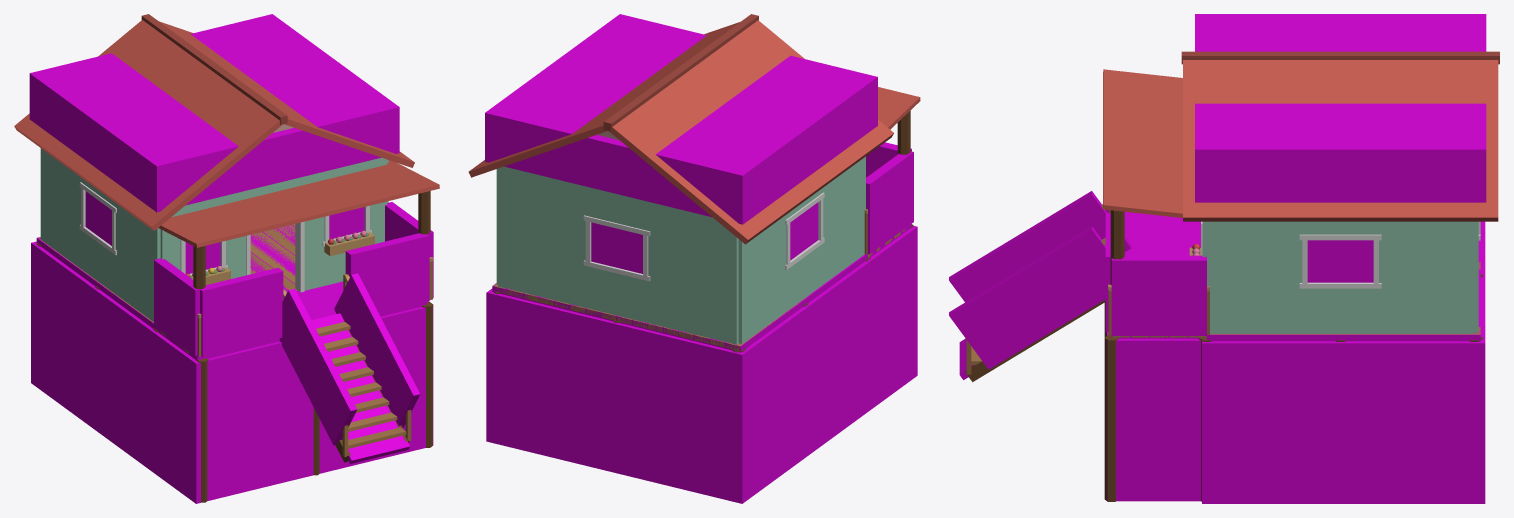
The model's file is stilt_house_d-CxlcBI84.glb.
3 views of the same model, side by side, from view 1: azimuth 30°, elevation 25°; view 2: azimuth 150°, elevation 25°; view 3: azimuth 270°, elevation 25° (orthographic). The views are drawn at different scales.
Visible parts, largest first — view 1: COLP_stilt_house_d, stilt_house_d, COL_stilt_house_d; view 2: COLP_stilt_house_d, stilt_house_d, COL_stilt_house_d; view 3: COLP_stilt_house_d, stilt_house_d, COL_stilt_house_d.
Boxes of the visible parts, left/top/right/bottom form: COLP_stilt_house_d: left=31, top=202, right=433, bottom=503; stilt_house_d: left=14, top=14, right=439, bottom=502; COL_stilt_house_d: left=29, top=14, right=426, bottom=463; COLP_stilt_house_d: left=486, top=142, right=917, bottom=503; stilt_house_d: left=468, top=14, right=920, bottom=352; COL_stilt_house_d: left=485, top=14, right=911, bottom=352; COLP_stilt_house_d: left=949, top=191, right=1485, bottom=503; stilt_house_d: left=965, top=51, right=1499, bottom=501; COL_stilt_house_d: left=959, top=14, right=1486, bottom=379.
Bounding box in the file's own units: 5.86 × 7.1 × 9.26.
